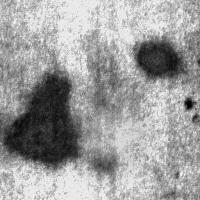patches: (4, 71, 78, 167), (71, 99, 143, 171), (135, 39, 181, 76)
